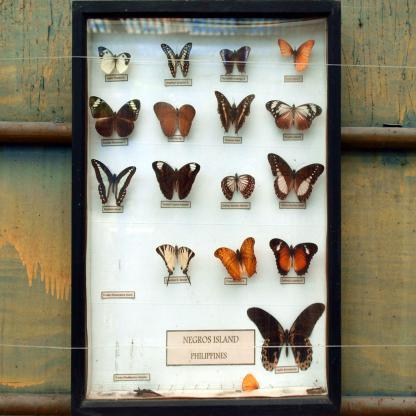Picture-frame: (72, 2, 344, 416)
